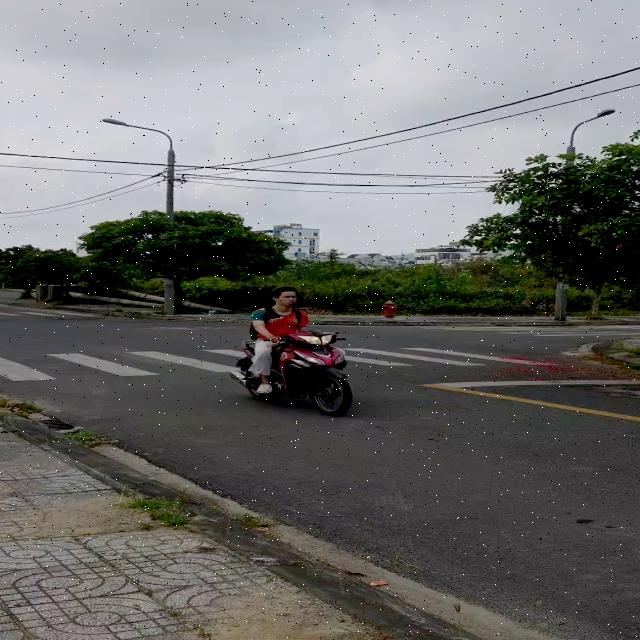no_helmet: (268, 285, 299, 313)
